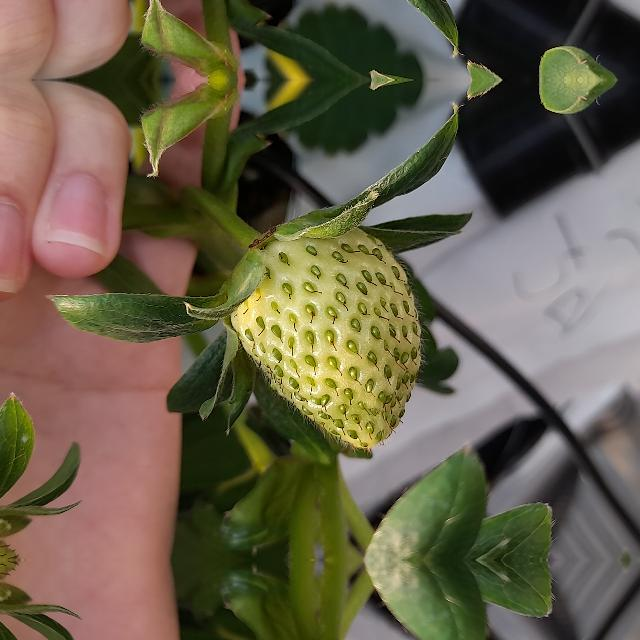Health_25: (230, 226, 428, 454)
